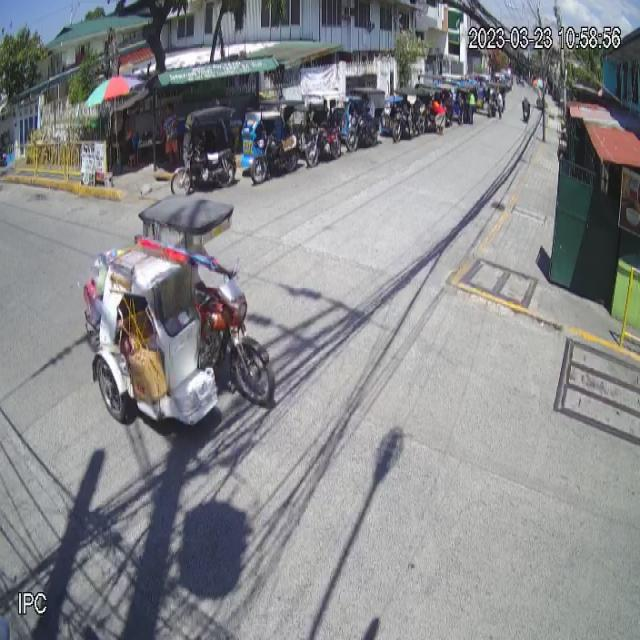Tricycle: (81, 191, 278, 428)
